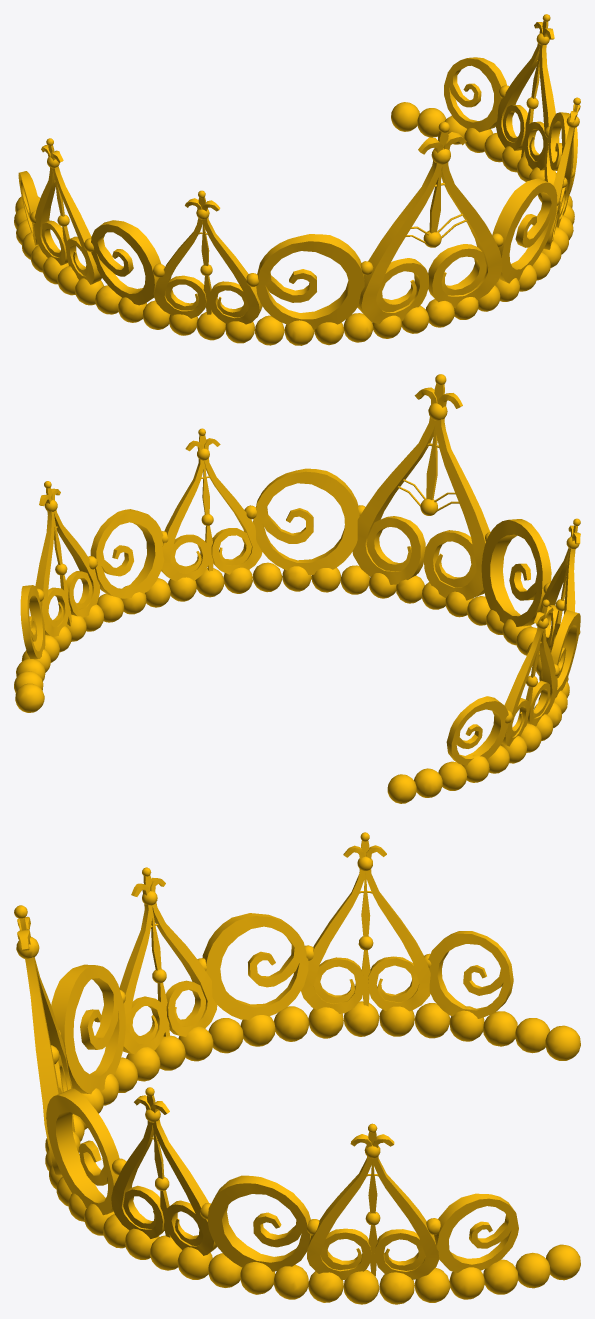
File: crown.glb
3 renders of one model, top to bottom at view 1: azimuth 30°, elevation 25°; view 2: azimuth 150°, elevation 25°; view 3: azimuth 270°, elevation 25°, orthographic. The views are drawn at different scales.
Visible parts, largest first — view 1: crown_0; view 2: crown_0; view 3: crown_0.
Part boxes in pixels (left/top/right/bottom): crown_0: left=14, top=14, right=580, bottom=345; crown_0: left=14, top=374, right=580, bottom=803; crown_0: left=14, top=832, right=580, bottom=1304.
Size of the model in its own units: 3.63 by 1.51 by 2.95.
